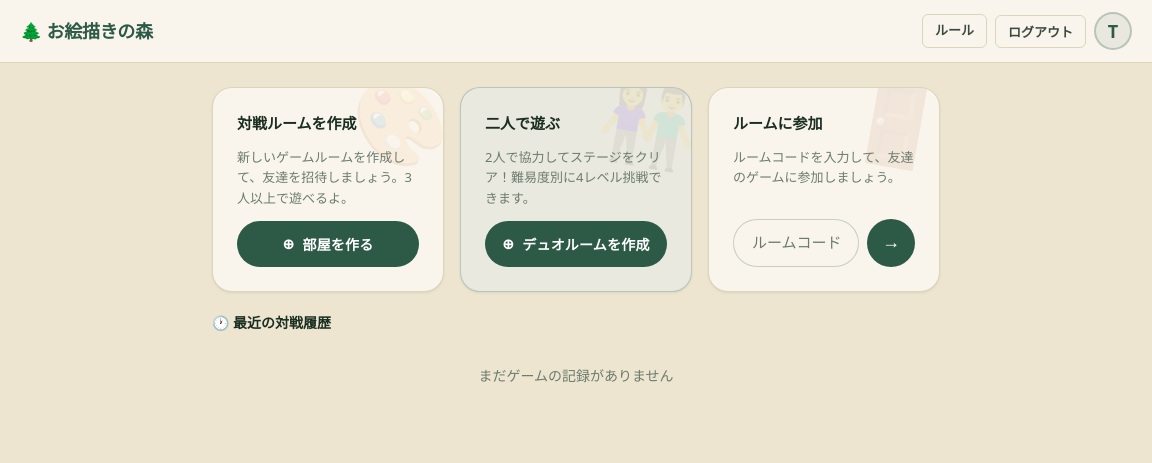
Test: Lobby ページ（ログイン済み） › ルーム参加失敗でエラーメッセージが表示される
Type "XXXXXX" into the field labelled "ルームコード" at x=796, y=243, box [733,219,859,267]
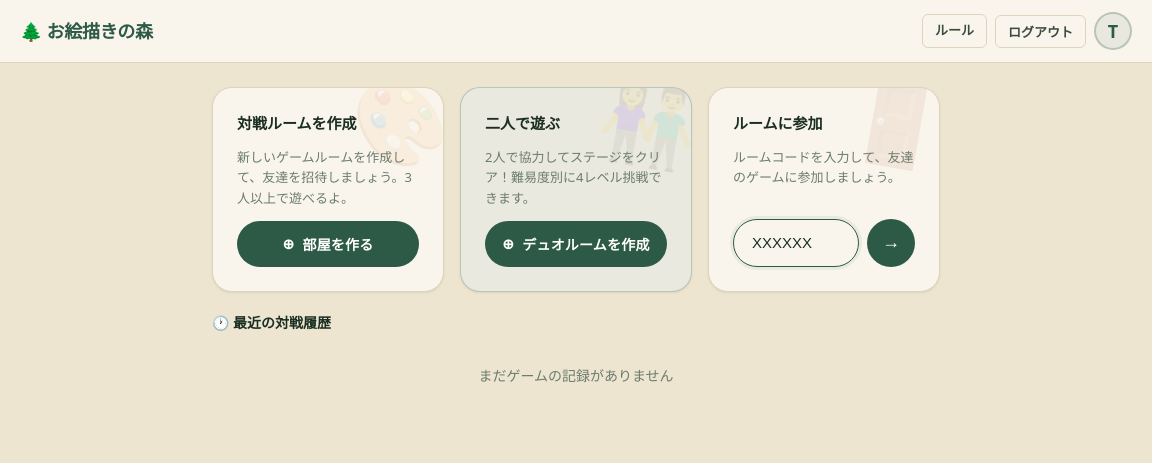
Click the button named "参加する" at x=891, y=243, box [867,219,915,267]
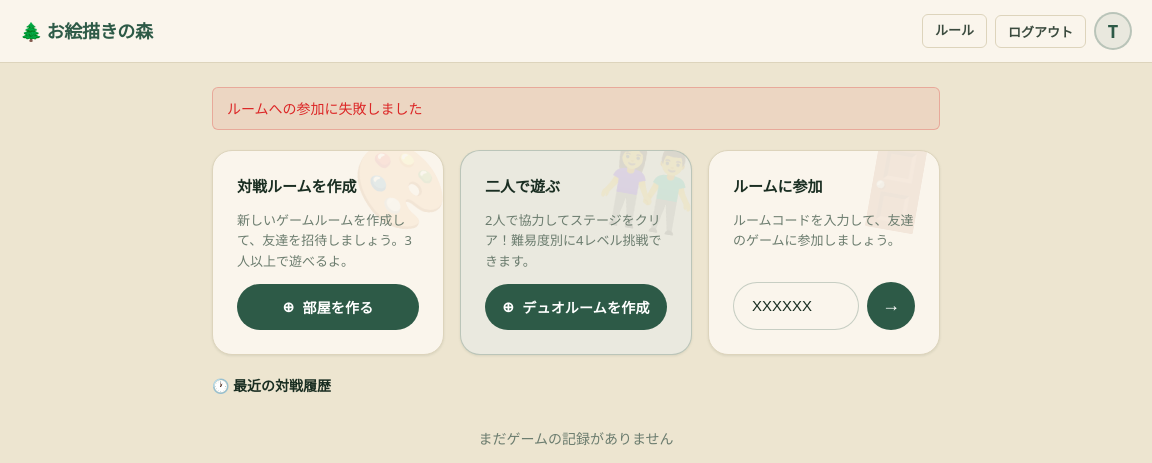
Expected: the message reads "ルームへの参加に失敗しました", [227,99,423,118]
